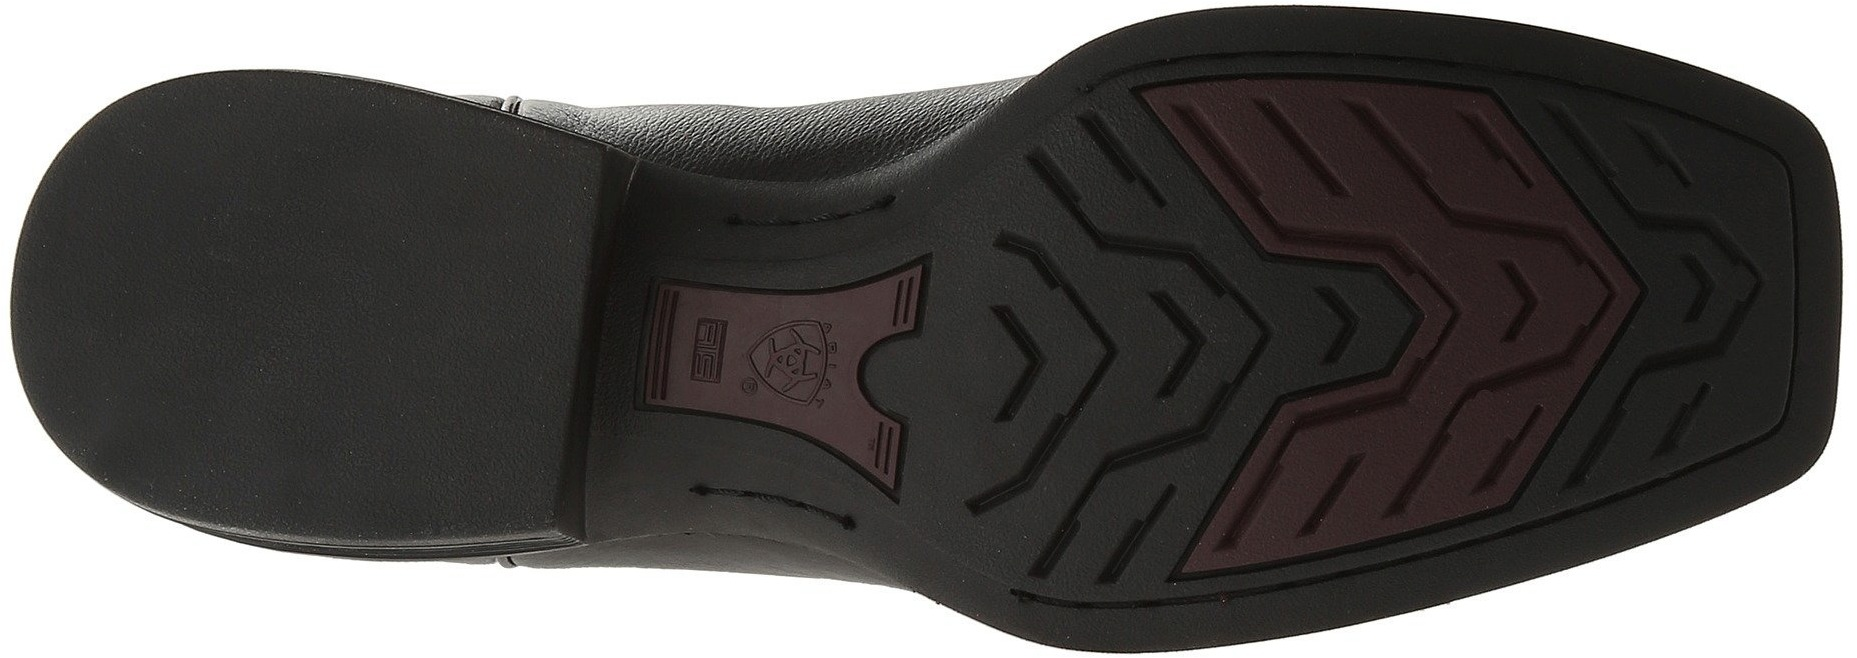chevron: (1419, 207, 1644, 396), (1182, 252, 1360, 434), (970, 267, 1135, 434)
exclude: (578, 153, 931, 566)
other: (152, 131, 473, 499), (30, 217, 220, 395)
